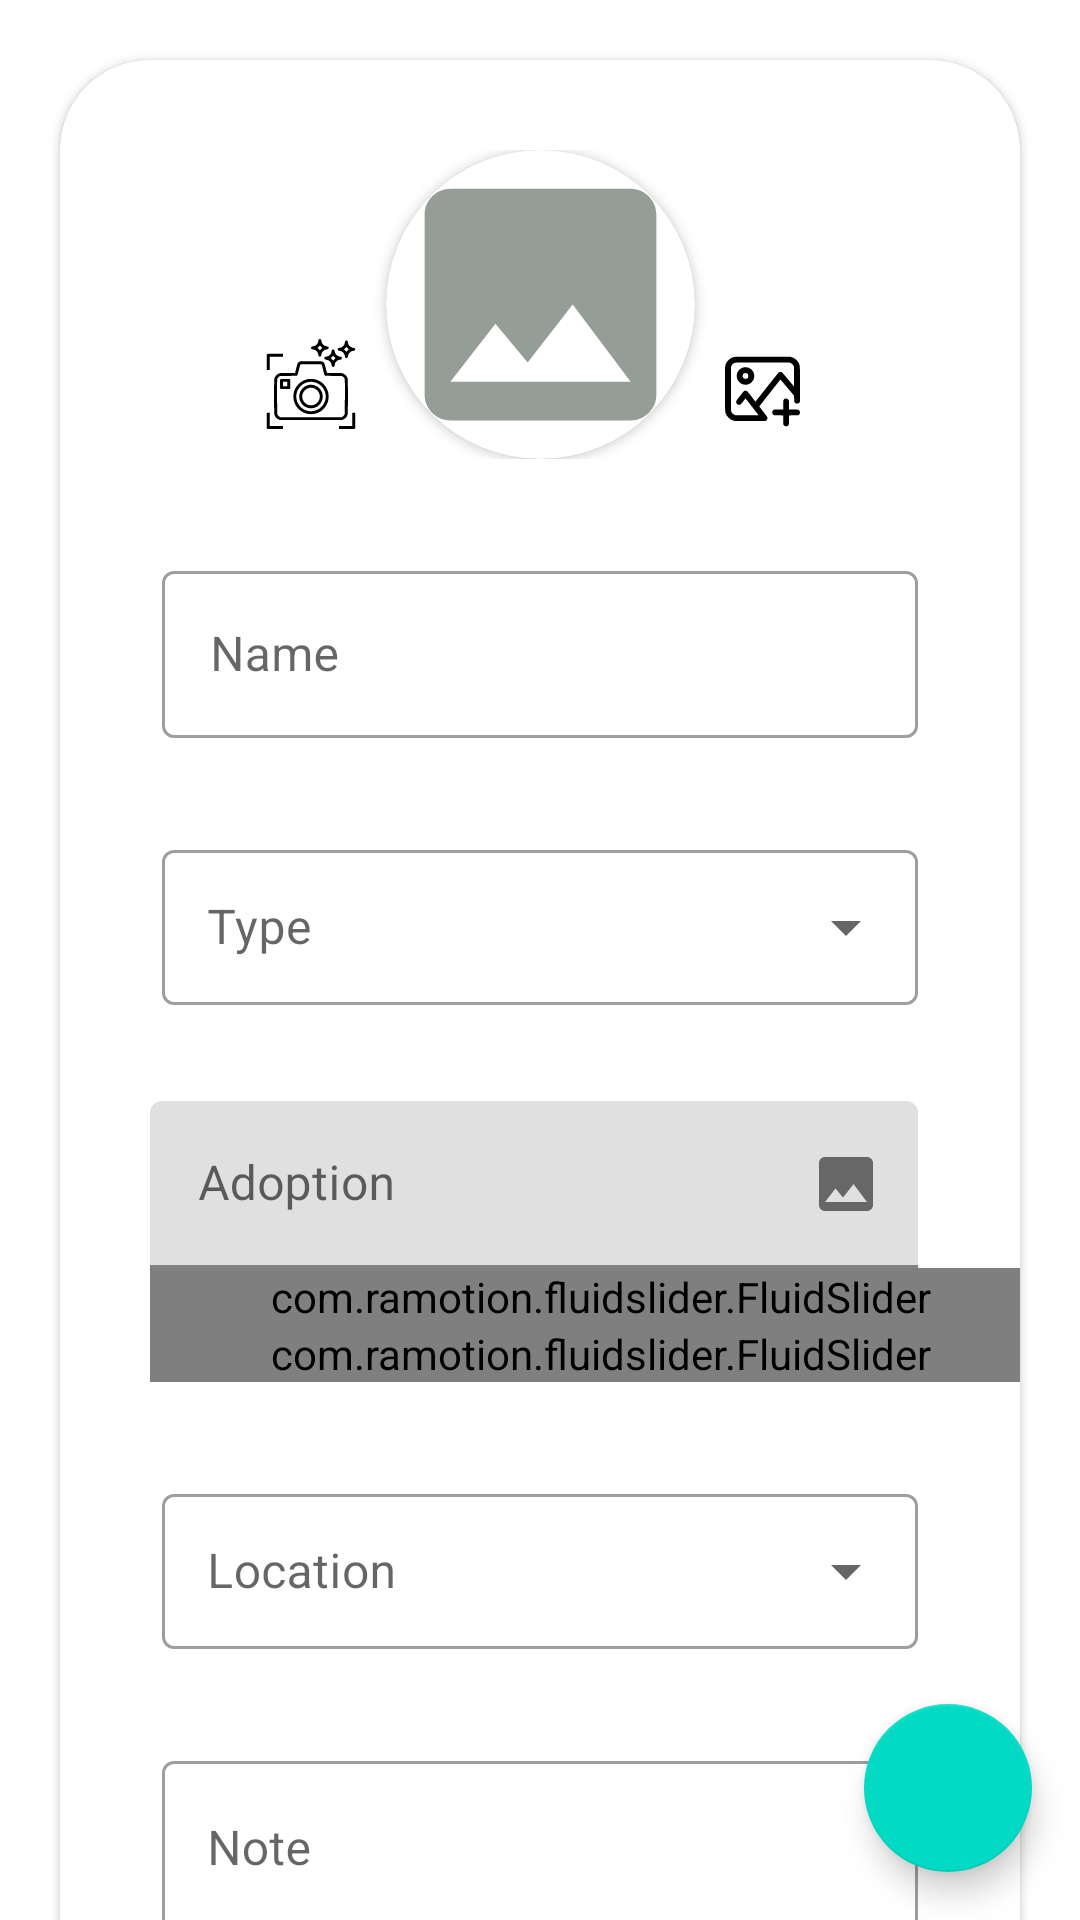

Icon click points for this 1080 x 1920 phone screenshot, format [x,y]:
add: [762,391]
photo camera: [311,384]
